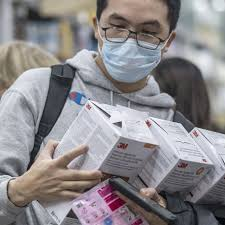masked: (93, 1, 171, 84)
